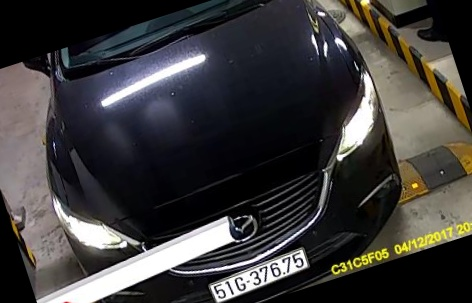plate: (204, 246, 313, 299)
